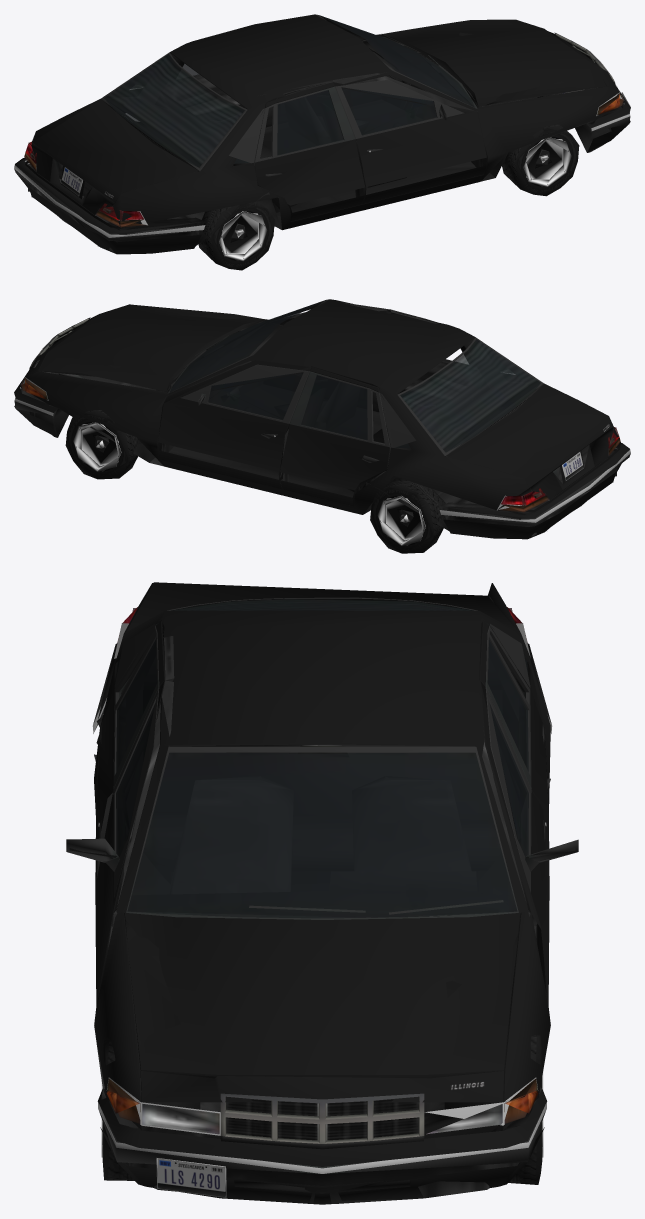
Rendered from v_illinois90_lod.glb.
3 views of the same model, one above another, from view 1: azimuth 30°, elevation 25°; view 2: azimuth 150°, elevation 25°; view 3: azimuth 270°, elevation 25° (orthographic). The views are drawn at different scales.
Visible parts, largest first — view 1: Illinois90_Body_Illinois90_Bodymat_0, Illinois90_Interior_UCB_Interiors_2_0, Illinois90_Hood_Illinois90_Bodymat_0, Illinois90_Bottom_UCB_BOTTOM_0, Illinois90_Trunkdoor_Illinois90_Bodymat_0, Illinois90_Rear_Glass_UCB_Lights_and_Glass_Transperent_0, Illinois90_WheelStock_RR_RB1c_Tire_1k_0, Illinois90_WheelStock_FR_RB1c_Tire_1k_0, Illinois90_Body_Glass_UCB_Lights_and_Glass_Transperent_0, Illinois90_Bumper_rear_Illinois90_Bodymat_0, Illinois90_Glass_Passenger_UCB_Lights_and_Glass_Transperent_, Illinois90_Windshield_UCB_Lights_and_Glass_Transperent_0 (+5 smaller); view 2: Illinois90_Body_Illinois90_Bodymat_0, Illinois90_Interior_UCB_Interiors_2_0, Illinois90_Hood_Illinois90_Bodymat_0, Illinois90_Bottom_UCB_BOTTOM_0, Illinois90_Trunkdoor_Illinois90_Bodymat_0, Illinois90_Rear_Glass_UCB_Lights_and_Glass_Transperent_0, Illinois90_WheelStock_RL_RB1c_Tire_1k_0, Illinois90_WheelStock_FL_RB1c_Tire_1k_0, Illinois90_Body_Glass_UCB_Lights_and_Glass_Transperent_0, Illinois90_Bumper_rear_Illinois90_Bodymat_0, Illinois90_glass_Driver_UCB_Lights_and_Glass_Transperent_0, Illinois90_Windshield_UCB_Lights_and_Glass_Transperent_0 (+6 smaller); view 3: Illinois90_Body_Illinois90_Bodymat_0, Illinois90_Interior_UCB_Interiors_2_0, Illinois90_Hood_Illinois90_Bodymat_0, Illinois90_Windshield_UCB_Lights_and_Glass_Transperent_0, Illinois90_Bottom_UCB_BOTTOM_0, Illinois90_Bumper_front_Illinois90_Bodymat_0, Illinois90_Trunkdoor_Illinois90_Bodymat_0, Illinois90_Bumper_front_inner_UCB_BOTTOM_0, Illinois90_Body_Glass_UCB_Lights_and_Glass_Transperent_0, Illinois90_Rear_Glass_UCB_Lights_and_Glass_Transperent_0, Illinois90_Headlights_UCB_Lights_and_Glass_0, Illinois90_Numberplate_front_Numberplates_Misk_U_0 (+5 smaller).
Part boxes in pixels (box(x1,y1,x2,y2)): Illinois90_Body_Illinois90_Bodymat_0: box(25, 14, 624, 229); Illinois90_Interior_UCB_Interiors_2_0: box(105, 15, 479, 215); Illinois90_Hood_Illinois90_Bodymat_0: box(379, 19, 606, 106); Illinois90_Bottom_UCB_BOTTOM_0: box(28, 14, 622, 251); Illinois90_Trunkdoor_Illinois90_Bodymat_0: box(32, 99, 198, 214); Illinois90_Rear_Glass_UCB_Lights_and_Glass_Transperent_0: box(104, 54, 244, 167); Illinois90_WheelStock_RR_RB1c_Tire_1k_0: box(198, 201, 274, 270); Illinois90_WheelStock_FR_RB1c_Tire_1k_0: box(502, 124, 579, 196); Illinois90_Body_Glass_UCB_Lights_and_Glass_Transperent_0: box(129, 63, 343, 164); Illinois90_Bumper_rear_Illinois90_Bodymat_0: box(15, 157, 202, 254); Illinois90_Glass_Passenger_UCB_Lights_and_Glass_Transperent_: box(341, 88, 436, 135); Illinois90_Windshield_UCB_Lights_and_Glass_Transperent_0: box(320, 15, 474, 107); Illinois90_Body_Illinois90_Bodymat_0: box(20, 299, 620, 514); Illinois90_Interior_UCB_Interiors_2_0: box(165, 300, 527, 497); Illinois90_Hood_Illinois90_Bodymat_0: box(38, 304, 264, 391); Illinois90_Bottom_UCB_BOTTOM_0: box(21, 299, 616, 536); Illinois90_Trunkdoor_Illinois90_Bodymat_0: box(446, 384, 612, 499); Illinois90_Rear_Glass_UCB_Lights_and_Glass_Transperent_0: box(400, 339, 540, 452); Illinois90_WheelStock_RL_RB1c_Tire_1k_0: box(370, 478, 445, 553); Illinois90_WheelStock_FL_RB1c_Tire_1k_0: box(65, 410, 141, 479); Illinois90_Body_Glass_UCB_Lights_and_Glass_Transperent_0: box(301, 347, 515, 448); Illinois90_Bumper_rear_Illinois90_Bodymat_0: box(441, 443, 629, 539); Illinois90_glass_Driver_UCB_Lights_and_Glass_Transperent_0: box(208, 373, 303, 420); Illinois90_Windshield_UCB_Lights_and_Glass_Transperent_0: box(170, 300, 323, 392); Illinois90_Body_Illinois90_Bodymat_0: box(94, 583, 550, 1130); Illinois90_Interior_UCB_Interiors_2_0: box(118, 632, 526, 917); Illinois90_Hood_Illinois90_Bodymat_0: box(124, 912, 520, 1076); Illinois90_Windshield_UCB_Lights_and_Glass_Transperent_0: box(127, 752, 517, 918); Illinois90_Bottom_UCB_BOTTOM_0: box(66, 597, 578, 1203); Illinois90_Bumper_front_Illinois90_Bodymat_0: box(98, 1089, 546, 1204); Illinois90_Trunkdoor_Illinois90_Bodymat_0: box(126, 582, 518, 631); Illinois90_Bumper_front_inner_UCB_BOTTOM_0: box(97, 1088, 547, 1173); Illinois90_Body_Glass_UCB_Lights_and_Glass_Transperent_0: box(116, 639, 528, 771); Illinois90_Rear_Glass_UCB_Lights_and_Glass_Transperent_0: box(155, 598, 490, 627); Illinois90_Headlights_UCB_Lights_and_Glass_0: box(142, 1104, 502, 1134); Illinois90_Numberplate_front_Numberplates_Misk_U_0: box(156, 1158, 226, 1197).
Bounding box in the file's own units: 5.17 × 1.37 × 2.08.
8 materials, 7 textured.
